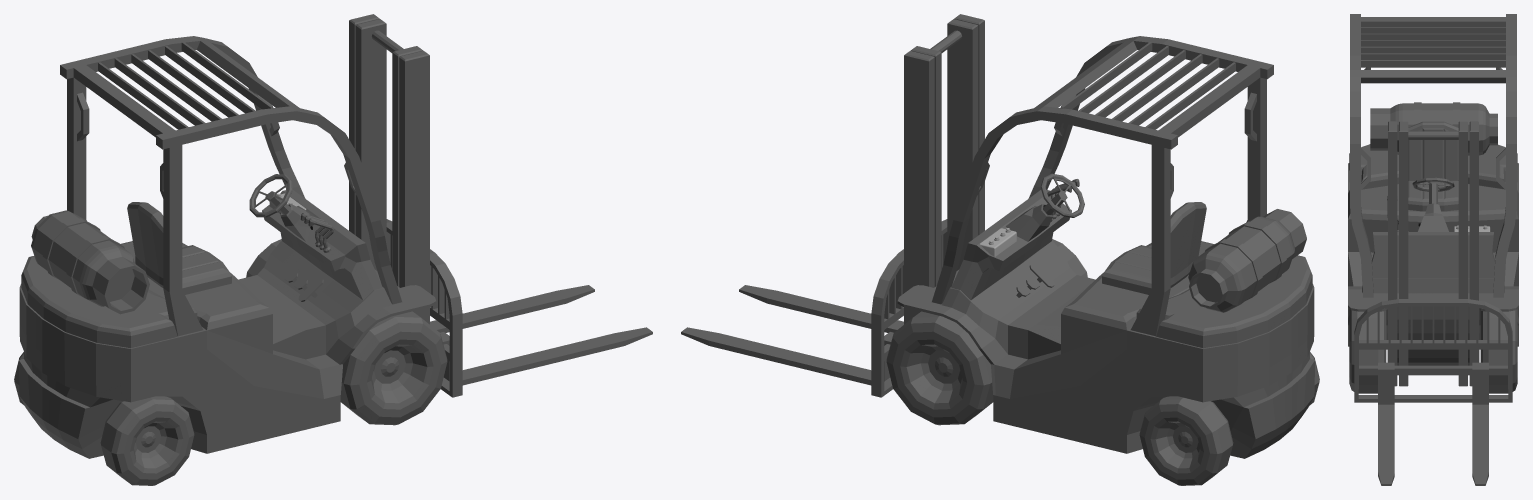
Rendered from Fbx_Fork_Lift.fbx.
3 views of the same model, side by side, from view 1: azimuth 30°, elevation 25°; view 2: azimuth 150°, elevation 25°; view 3: azimuth 270°, elevation 25° (orthographic). The views are drawn at different scales.
Parts seen in each view (by area): view 1: polySurface22, Tire_Front_Right, Fork_Rails_Outer, Forks, Fork_Rails_Inner, polySurface9, Tire_Back_Right, polySurface8, polySurface21, polySurface7, polySurface3, polySurface4 (+3 smaller); view 2: polySurface22, Tire_Front_Left, Fork_Rails_Outer, Forks, Fork_Rails_Inner, polySurface9, Tire_Back_Left, polySurface8, polySurface21, polySurface7, polySurface3, polySurface4 (+3 smaller); view 3: polySurface22, Forks, Fork_Rails_Inner, Fork_Rails_Outer, polySurface8, polySurface9, Tire_Front_Left, Tire_Front_Right, polySurface3, polySurface5, polySurface7, polySurface2 (+3 smaller).
Part boxes in pixels (<box>): polySurface22: <box>18,36,436,458</box>; Tire_Front_Right: <box>340,311,447,425</box>; Fork_Rails_Outer: <box>349,14,429,324</box>; Forks: <box>386,219,652,397</box>; Fork_Rails_Inner: <box>355,19,423,286</box>; polySurface9: <box>31,210,149,314</box>; Tire_Back_Right: <box>100,396,194,485</box>; polySurface8: <box>127,202,231,294</box>; polySurface21: <box>249,174,292,217</box>; polySurface7: <box>181,42,273,109</box>; polySurface3: <box>114,58,205,125</box>; polySurface4: <box>131,54,221,121</box>; polySurface22: <box>897,36,1315,458</box>; Tire_Front_Left: <box>886,311,993,425</box>; Fork_Rails_Outer: <box>904,14,984,324</box>; Forks: <box>681,219,947,397</box>; Fork_Rails_Inner: <box>910,19,978,286</box>; polySurface9: <box>1188,209,1306,312</box>; Tire_Back_Left: <box>1139,396,1233,485</box>; polySurface8: <box>1102,202,1206,294</box>; polySurface21: <box>1040,173,1084,217</box>; polySurface7: <box>1060,42,1152,109</box>; polySurface3: <box>1128,58,1219,125</box>; polySurface4: <box>1112,54,1202,121</box>; polySurface22: <box>1348,14,1518,365</box>; Forks: <box>1354,299,1512,485</box>; Fork_Rails_Inner: <box>1399,121,1467,386</box>; Fork_Rails_Outer: <box>1388,121,1478,386</box>; polySurface8: <box>1408,121,1458,211</box>; polySurface9: <box>1370,102,1497,155</box>; Tire_Front_Left: <box>1480,309,1517,393</box>; Tire_Front_Right: <box>1349,309,1386,393</box>; polySurface3: <box>1361,33,1505,40</box>; polySurface5: <box>1361,46,1505,53</box>; polySurface7: <box>1361,60,1505,67</box>; polySurface2: <box>1361,27,1505,33</box>.
Size of the model in its own units: 346 by 198 by 109.
Materials: 3 (1 with a texture image).
